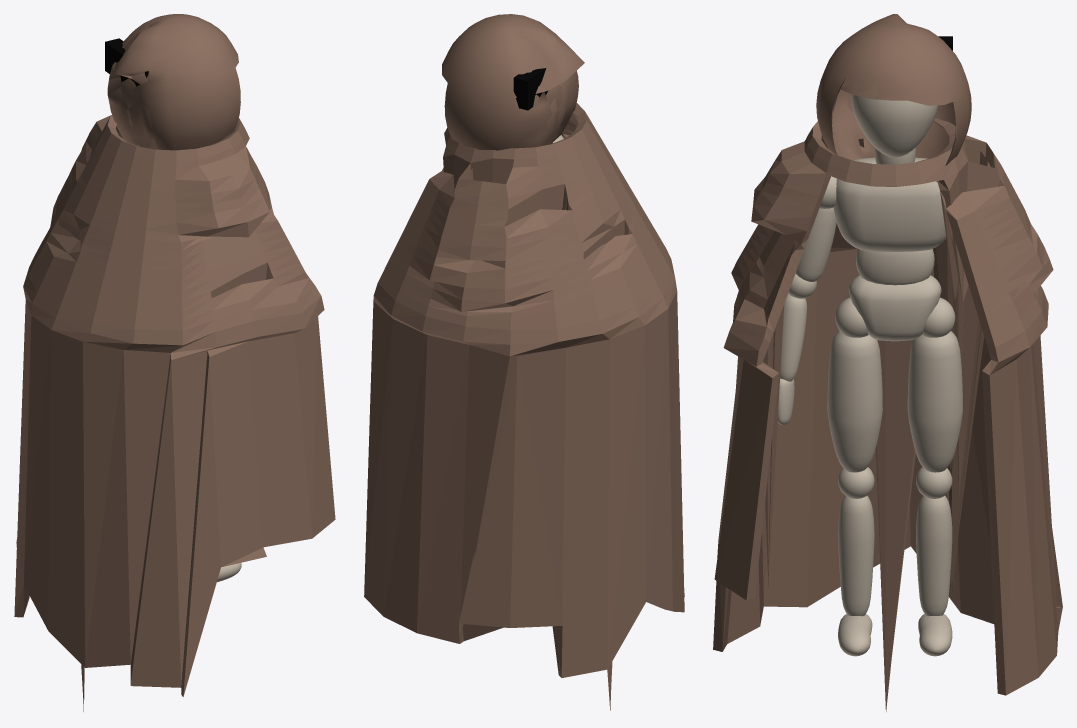
File: hacker to 2016 full.fbx
3 views of the same model, side by side, from view 1: azimuth 30°, elevation 25°; view 2: azimuth 150°, elevation 25°; view 3: azimuth 270°, elevation 25° (orthographic). The views are drawn at different scales.
Parts seen in each view (by area): view 1: pCone3, polySurface51, pCube1; view 2: pCone3, polySurface51, pCube1; view 3: pCone3, polySurface51, polySurface145, polySurface151, polySurface160, polySurface147, polySurface162, polySurface153, polySurface144, polySurface148, polySurface155, polySurface157 (+7 smaller).
Boxes of the visible parts, x1,y1,x2,y2 form: pCone3: [14, 115, 335, 711]; polySurface51: [107, 14, 240, 150]; pCube1: [105, 38, 148, 86]; pCone3: [364, 103, 684, 710]; polySurface51: [442, 14, 584, 150]; pCube1: [513, 68, 548, 110]; pCone3: [713, 118, 1062, 711]; polySurface51: [816, 14, 971, 181]; polySurface145: [833, 157, 946, 251]; polySurface151: [827, 331, 882, 472]; polySurface160: [907, 331, 962, 472]; polySurface147: [848, 275, 941, 341]; polySurface162: [916, 495, 952, 616]; polySurface153: [838, 495, 874, 616]; polySurface144: [851, 94, 938, 157]; polySurface148: [855, 249, 934, 285]; polySurface155: [795, 207, 836, 281]; polySurface157: [780, 293, 807, 381].
Size of the model in its own units: 9.78 by 26.1 by 11.2.
